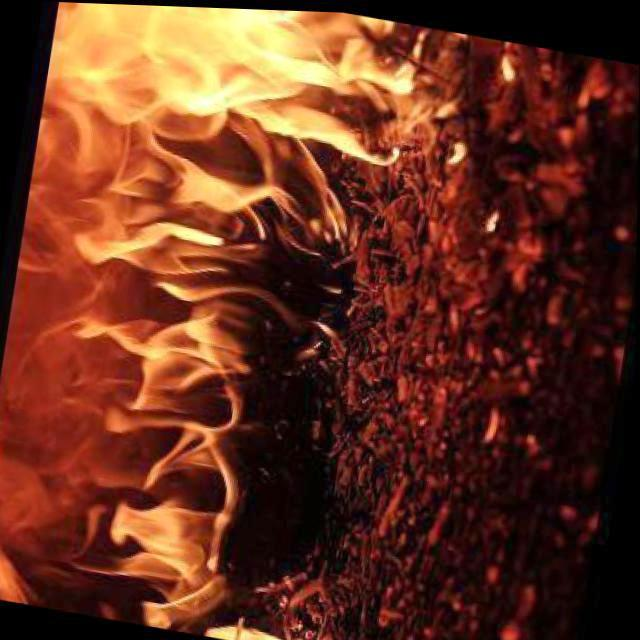fire: (1, 0, 432, 640)
